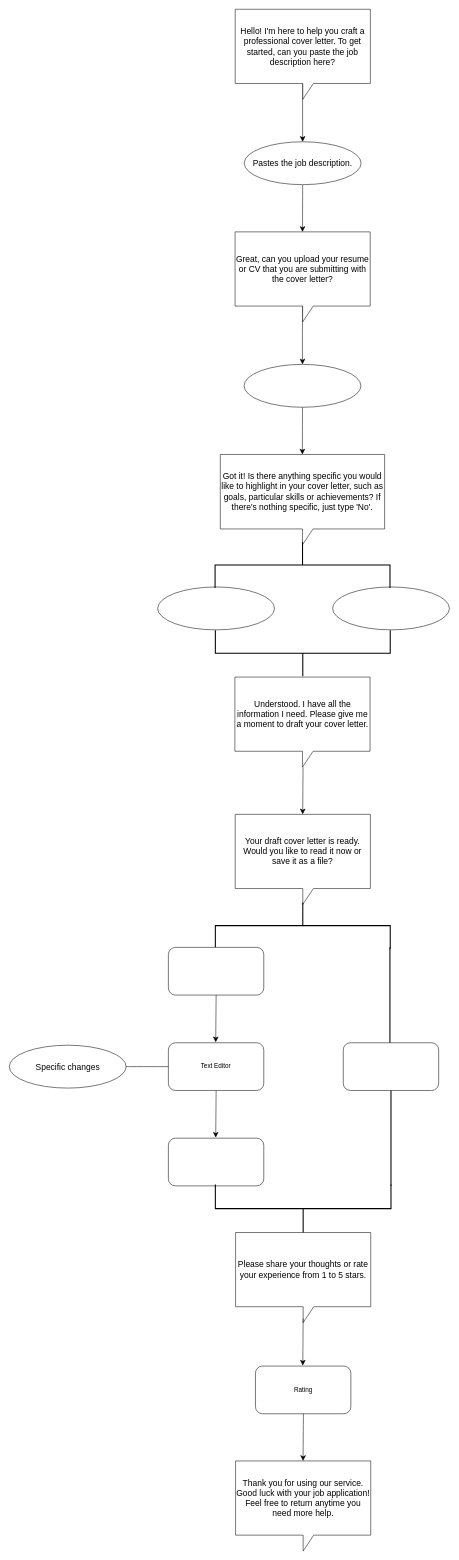
Image size: 459x1560. Some labels were removed from this diagram. The shapes that lost their labels are listed below. From the top down, each one's centre as x and y in pixels, then its label:
At pixel 302 385: "Uploads resume.".
At pixel 216 608: "No".
At pixel 390 608: "Provides highlights.".
At pixel 216 971: "Read".
At pixel 391 1066: "Download".
At pixel 216 1162: "Save".
